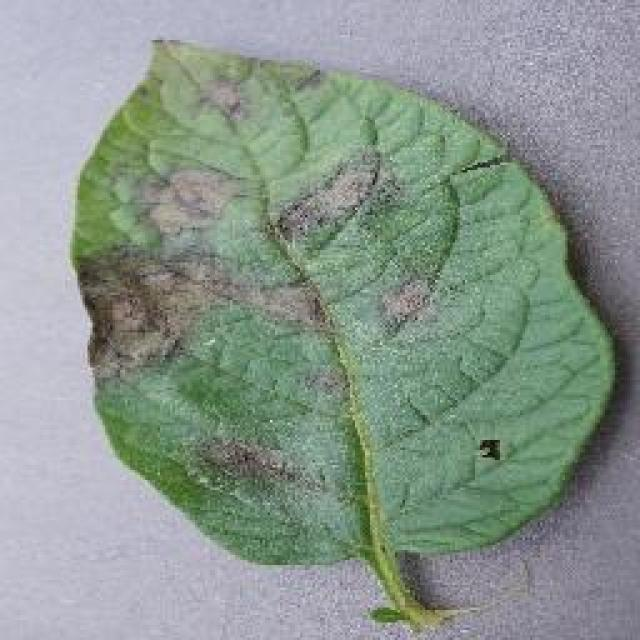Potato___Late_blight: (50, 15, 625, 637)
